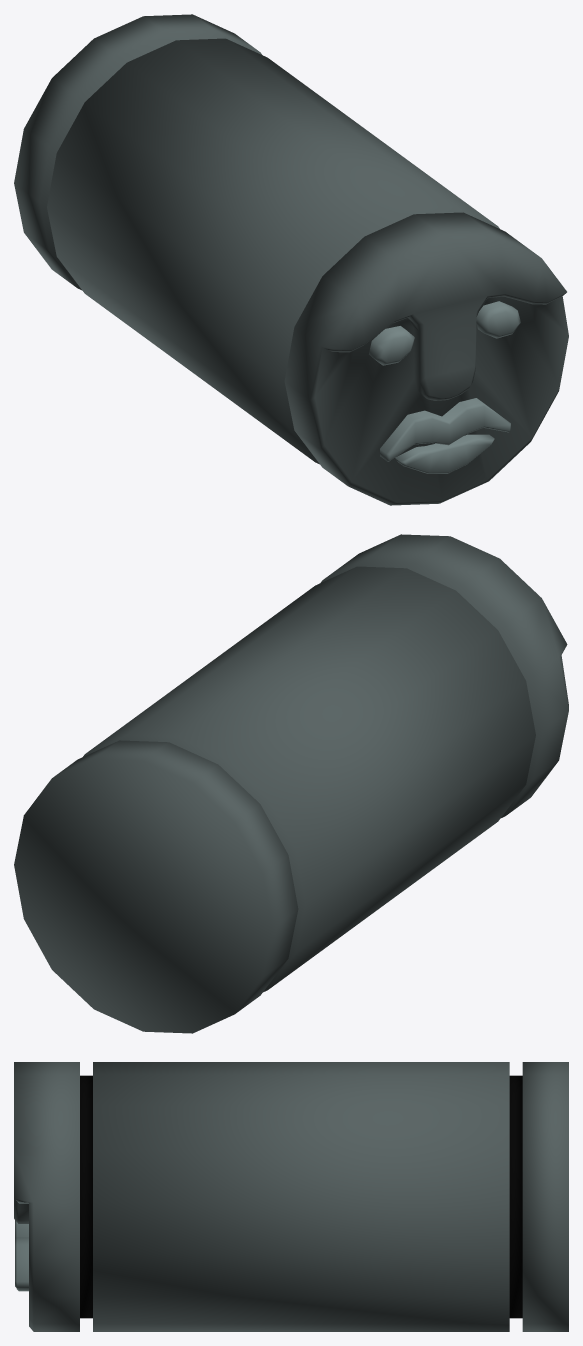
The model's file is ThomasTheCylindricBoulder.fbx.
The picture shows the model from 3 angles, top to bottom: view 1: azimuth 30°, elevation 25°; view 2: azimuth 150°, elevation 25°; view 3: azimuth 270°, elevation 25°; orthographic projection. The views are drawn at different scales.
Parts seen in each view (by area): view 1: Cylinder; view 2: Cylinder; view 3: Cylinder.
Boxes of the visible parts, x1=… form: Cylinder: x1=14, y1=14, x2=568, y2=505; Cylinder: x1=14, y1=534, x2=568, y2=1033; Cylinder: x1=14, y1=1062, x2=568, y2=1331.
Size of the model in its own units: 2 by 2 by 4.11.
